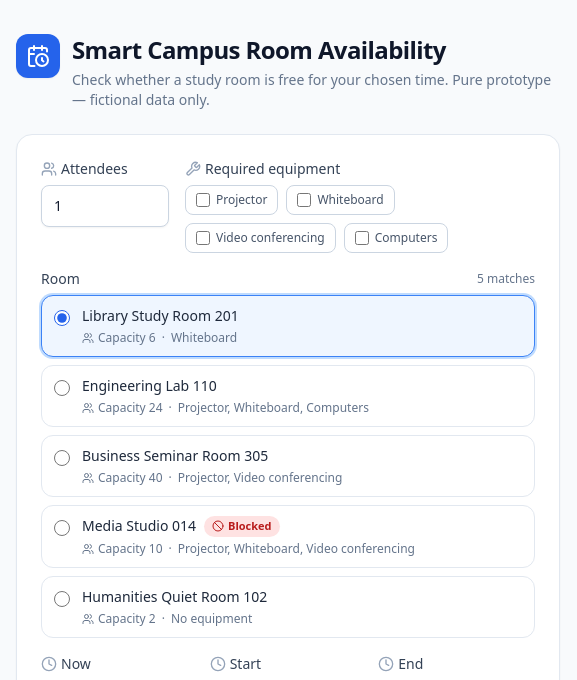
Test case: F5 – result follows the selected room › the bookings panel shows the selected room’s bookings
This screenshot has width=577, height=680.
Click the 2nd radio button at (62, 388), box [54,380,70,396]
(page scrolled)
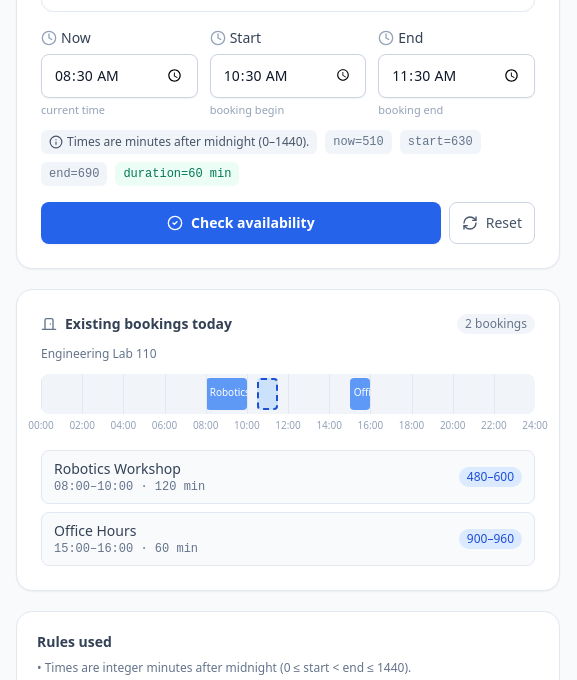
Check: the text "Engineering Lab 110" is shown, box [41,345,157,362]
